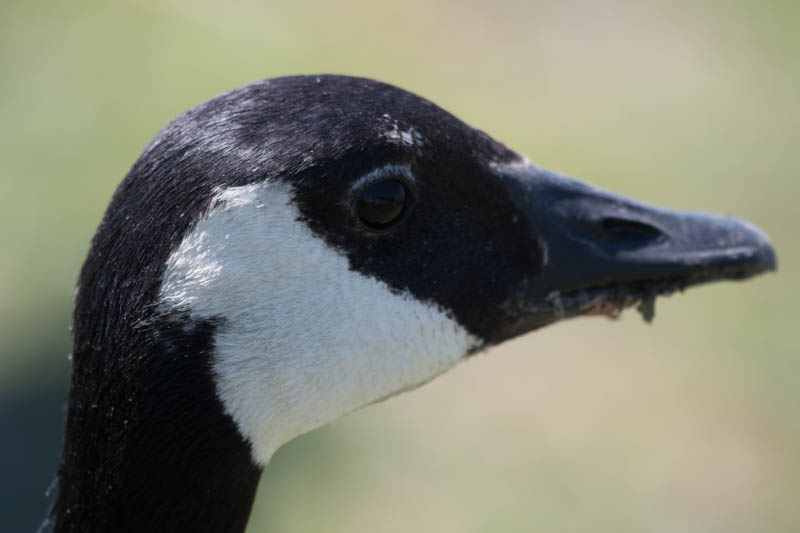goose-head: (71, 74, 780, 477)
